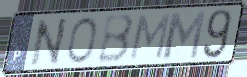9: (202, 7, 234, 61)
B: (96, 12, 136, 65)
M: (161, 9, 208, 61), (127, 12, 172, 62)
N: (29, 16, 70, 68)
O: (66, 15, 99, 65)
